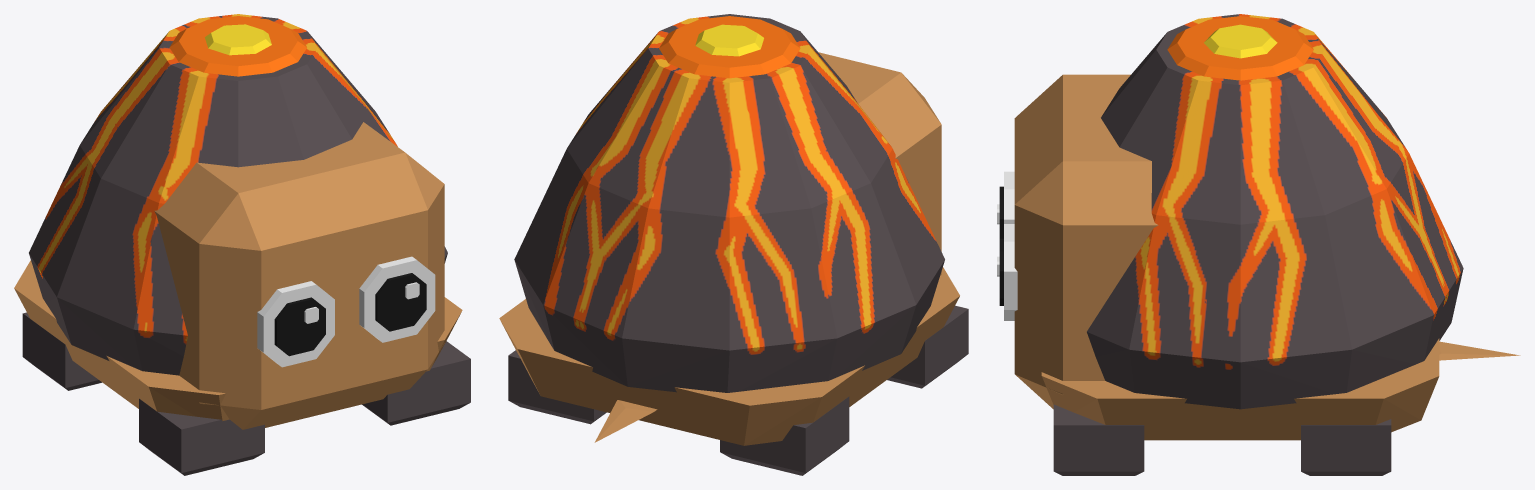
The model's file is LavaTortoise.fbx.
3 views of the same model, side by side, from view 1: azimuth 30°, elevation 25°; view 2: azimuth 150°, elevation 25°; view 3: azimuth 270°, elevation 25° (orthographic). The views are drawn at different scales.
Visible parts, largest first — view 1: LavaTortoise, LavaTortoise_Shell, LavaTortoise_Feet, LavaTortoise_Base, LavaTortoise_Eyes, LavaTortoise_Lava, LavaTortoise_Pupils, LavaTortoise_Crater; view 2: LavaTortoise_Shell, LavaTortoise_Base, LavaTortoise_Feet, LavaTortoise, LavaTortoise_Lava, LavaTortoise_Crater, LavaTortoise_Tail; view 3: LavaTortoise_Shell, LavaTortoise, LavaTortoise_Base, LavaTortoise_Feet, LavaTortoise_Lava, LavaTortoise_Eyes, LavaTortoise_Crater, LavaTortoise_Tail, LavaTortoise_Pupils.
Boxes of the visible parts, box(x1,y1,x2,y2) form: LavaTortoise: box(154, 122, 444, 429); LavaTortoise_Shell: box(29, 14, 447, 375); LavaTortoise_Feet: box(22, 312, 470, 475); LavaTortoise_Base: box(14, 260, 462, 420); LavaTortoise_Eyes: box(257, 256, 435, 367); LavaTortoise_Lava: box(169, 16, 306, 76); LavaTortoise_Pupils: box(274, 273, 426, 356); LavaTortoise_Crater: box(205, 24, 271, 55); LavaTortoise_Shell: box(514, 14, 944, 392); LavaTortoise_Base: box(499, 267, 959, 445); LavaTortoise_Feet: box(508, 305, 968, 475); LavaTortoise: box(818, 52, 941, 275); LavaTortoise_Lava: box(659, 16, 800, 78); LavaTortoise_Crater: box(695, 24, 763, 56); LavaTortoise_Tail: box(594, 400, 657, 442); LavaTortoise_Shell: box(1087, 14, 1463, 409); LavaTortoise: box(1014, 74, 1158, 409); LavaTortoise_Base: box(1041, 338, 1439, 440); LavaTortoise_Feet: box(1053, 404, 1391, 475); LavaTortoise_Lava: box(1167, 16, 1313, 80); LavaTortoise_Eyes: box(997, 171, 1017, 320); LavaTortoise_Crater: box(1204, 24, 1277, 58); LavaTortoise_Tail: box(1439, 341, 1520, 360); LavaTortoise_Pupils: box(999, 186, 1003, 305).
Size of the model in its own units: 2.96 by 2.69 by 3.48.
9 materials, 1 textured.
